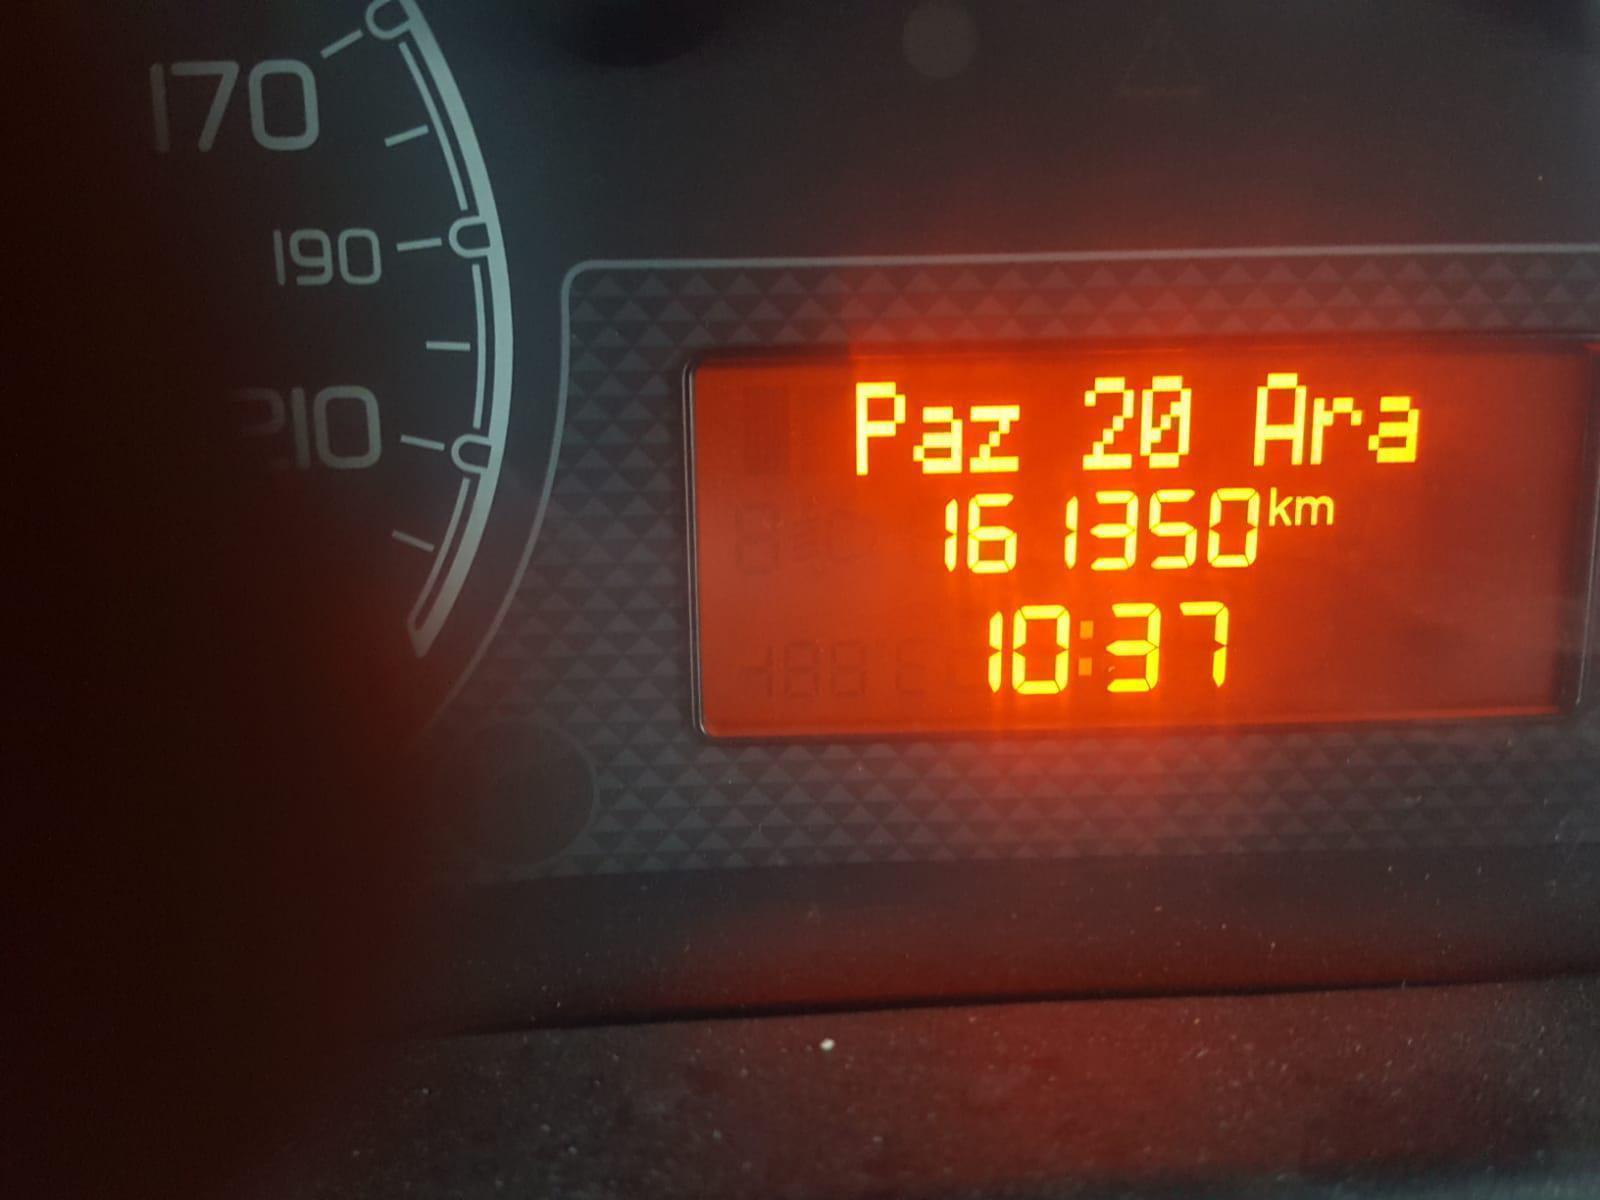1: (1052, 488, 1086, 576), (981, 600, 1005, 696), (939, 492, 957, 579)
2: (1077, 371, 1136, 476)
3: (1102, 591, 1159, 698), (1092, 484, 1136, 575)
5: (1144, 484, 1199, 574)
6: (964, 487, 1020, 581)
7: (1136, 367, 1196, 471), (1174, 592, 1235, 693), (1010, 600, 1070, 698), (1204, 484, 1259, 568)
X: (849, 376, 905, 480), (1254, 367, 1308, 468), (910, 400, 966, 482), (1306, 387, 1361, 468), (968, 400, 1022, 476), (1371, 389, 1420, 466), (1293, 490, 1335, 534), (1264, 479, 1291, 534), (1077, 613, 1096, 688)
odometer: (687, 349, 1590, 750)
